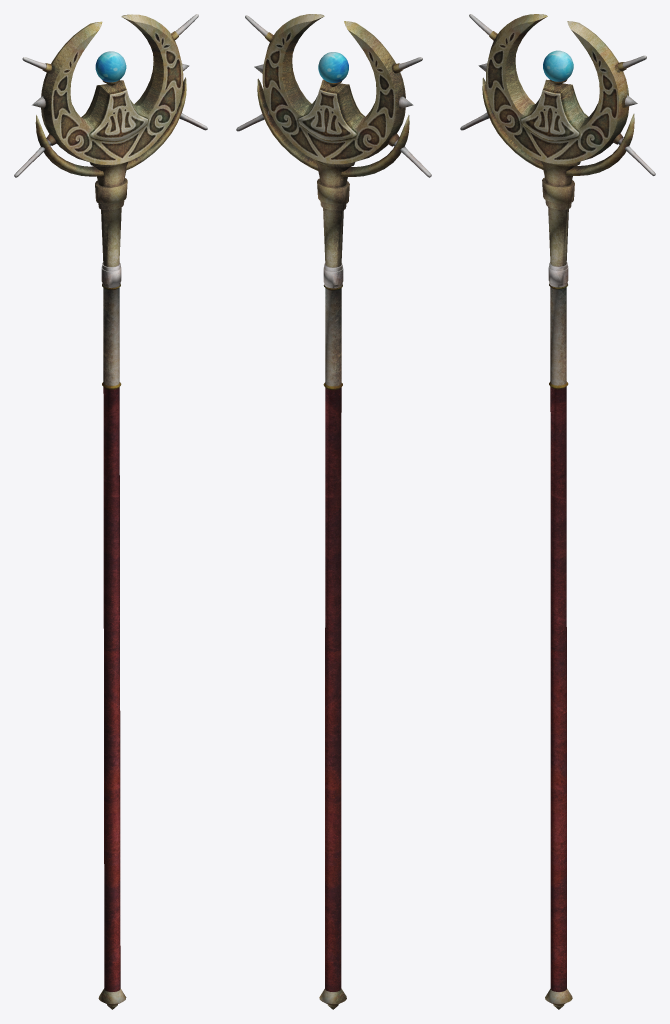
Rendered from staff.FBX.
The picture shows the model from 3 angles, left to right: view 1: azimuth 30°, elevation 25°; view 2: azimuth 150°, elevation 25°; view 3: azimuth 330°, elevation 25°; orthographic projection.
Visible parts, largest first — view 1: Body; view 2: Body; view 3: Body.
Part boxes in pixels (bbox=[...]): Body: bbox=[14, 14, 207, 1009]; Body: bbox=[236, 14, 431, 1009]; Body: bbox=[460, 14, 655, 1009].
Size of the model in its own units: 13.11 by 64.02 by 2.48.
